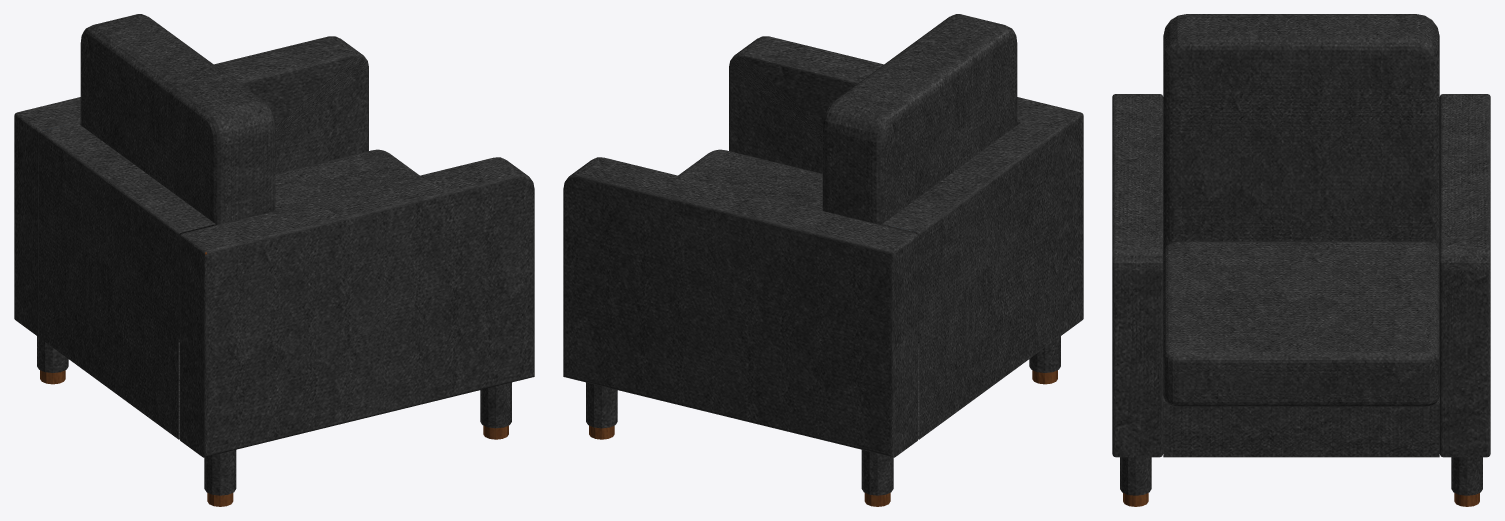
Rendered from chair_2.fbx.
3 views of the same model, side by side, from view 1: azimuth 30°, elevation 25°; view 2: azimuth 150°, elevation 25°; view 3: azimuth 270°, elevation 25° (orthographic).
Visible parts, largest first — view 1: Cylinder; view 2: Cylinder; view 3: Cylinder.
Boxes of the visible parts, x1,y1,x2,y2 form: Cylinder: (14,14,534,506); Cylinder: (563,14,1083,506); Cylinder: (1112,14,1490,506).
Size of the model in its own units: 92.51 by 94.11 by 89.01.
1 material, 1 textured.
